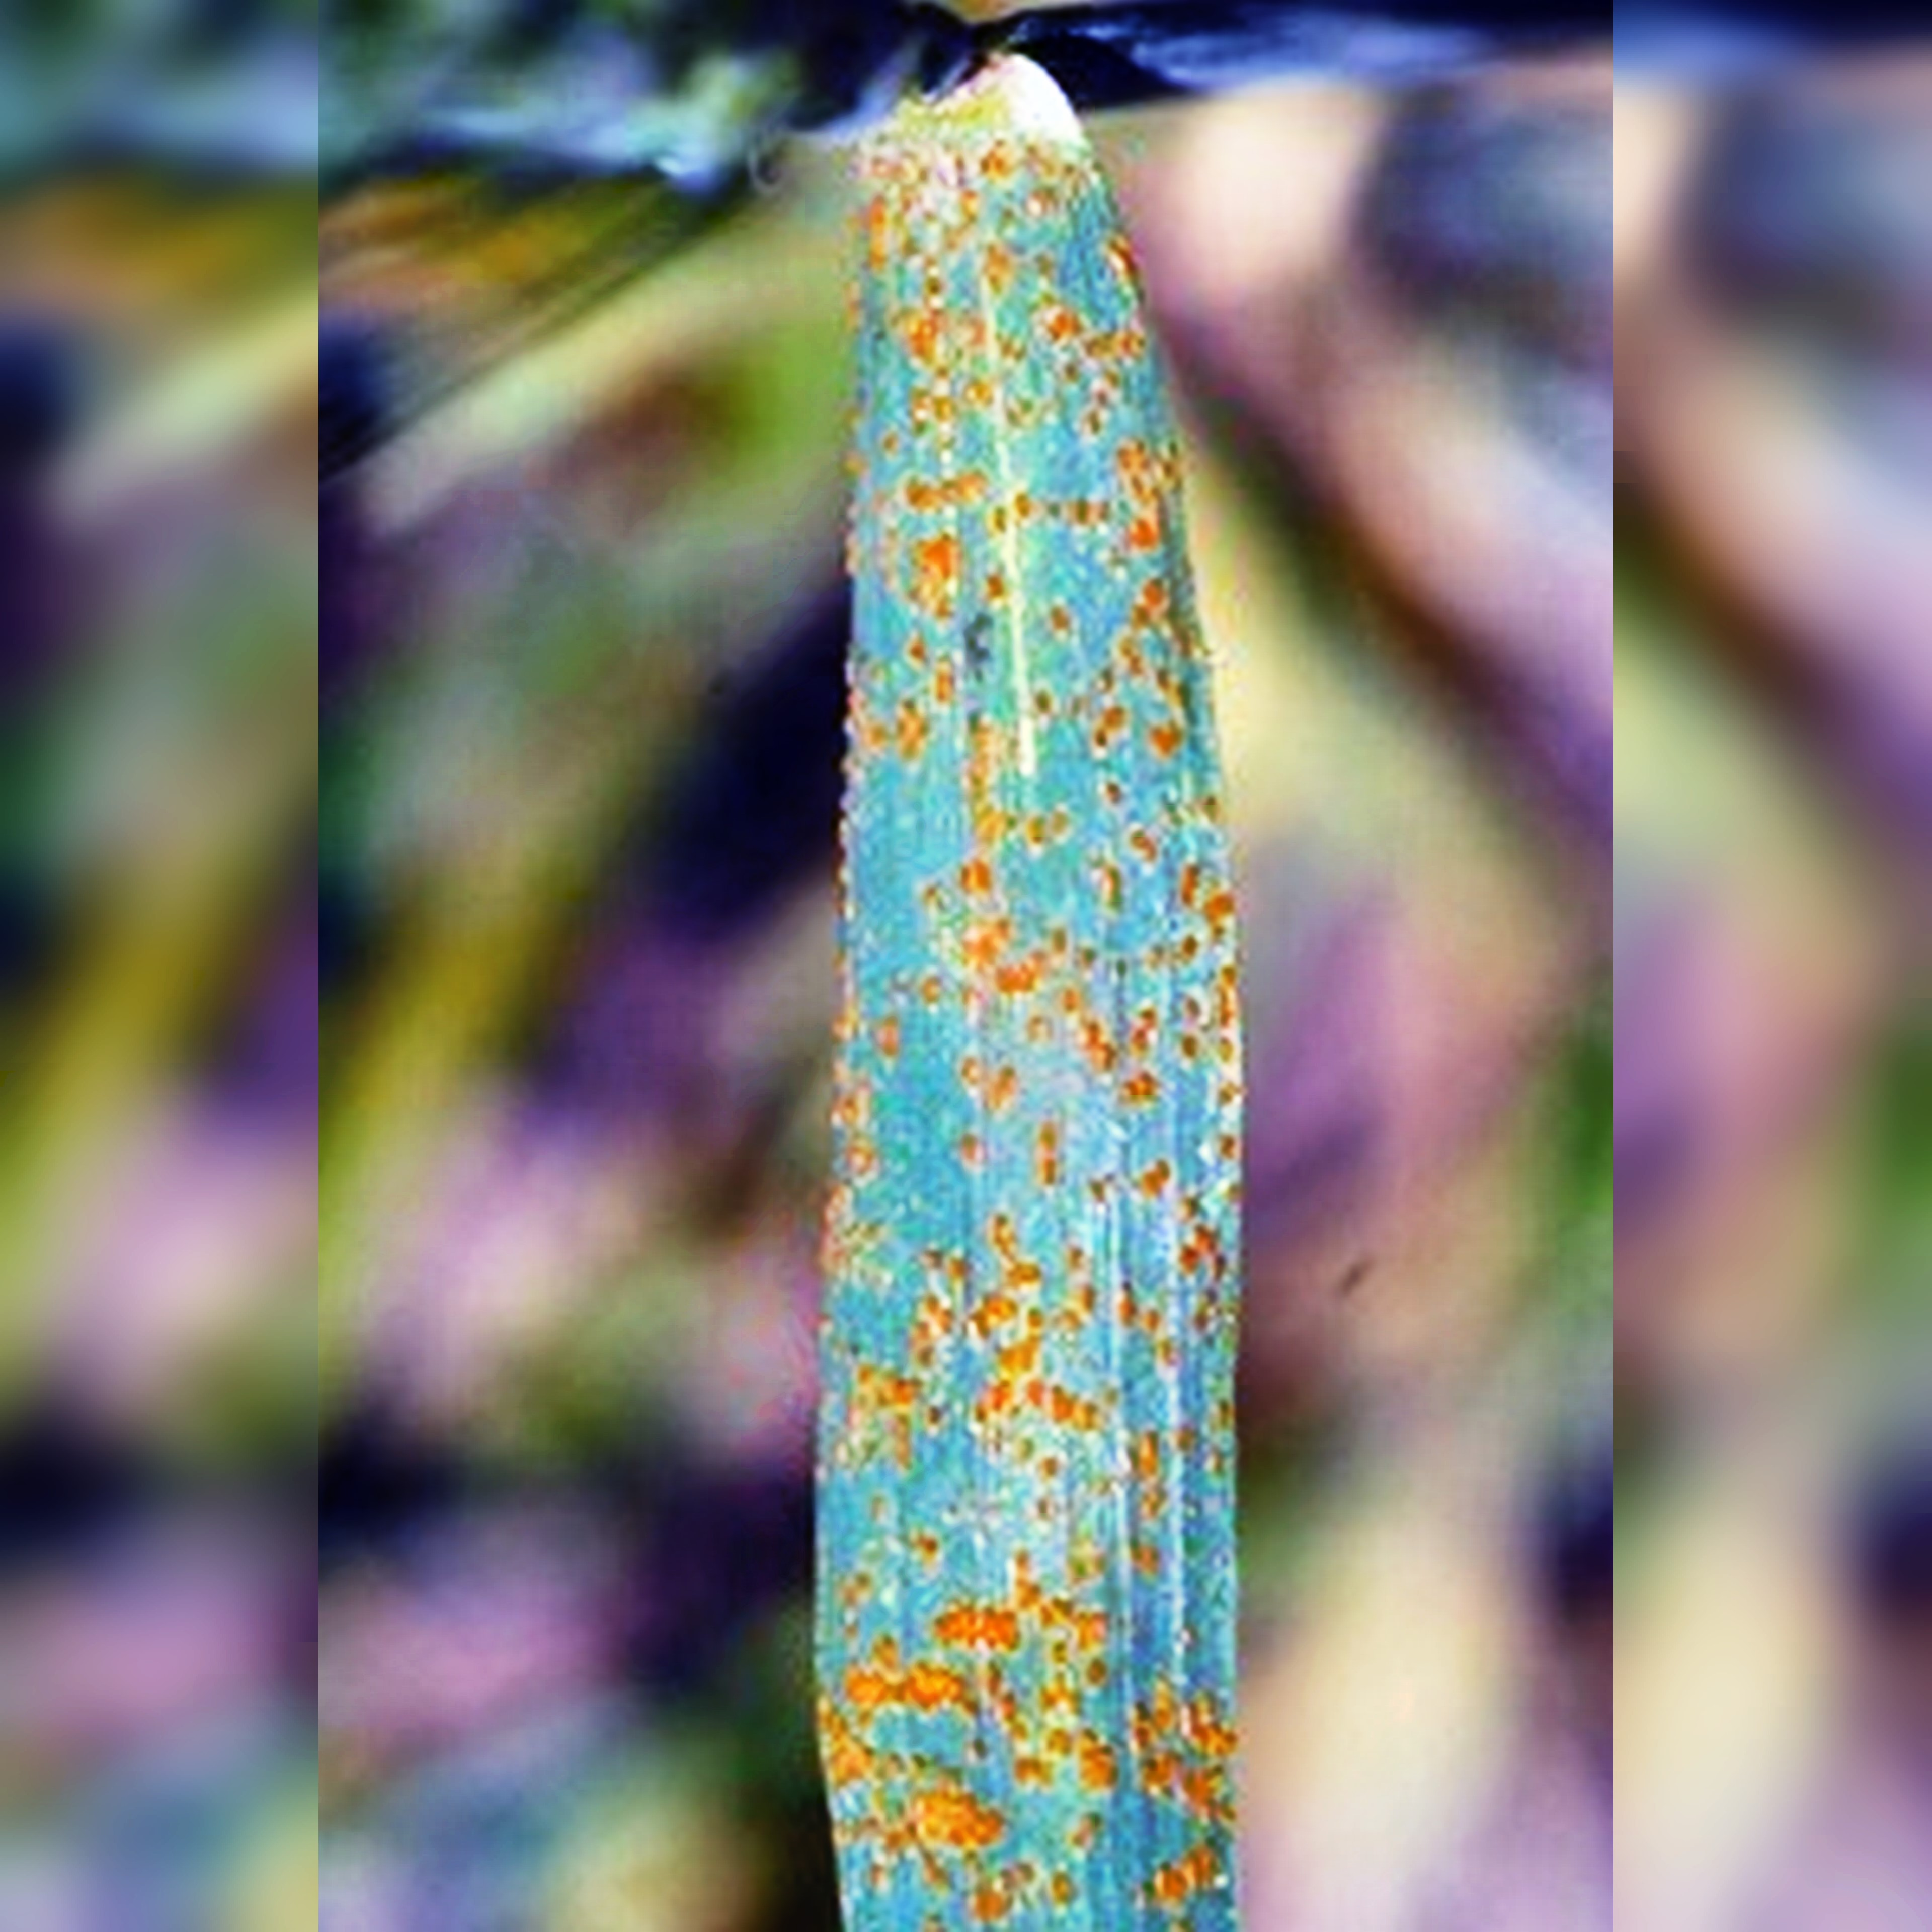Leaf Rust: (814, 188, 1279, 1911)
